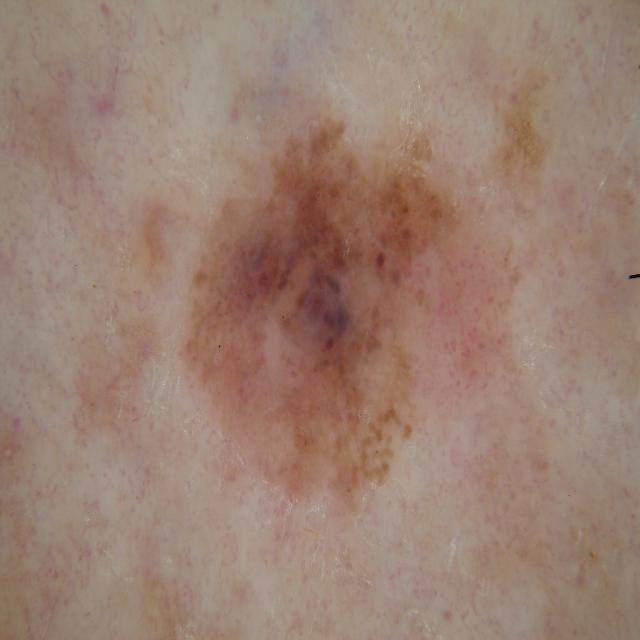Skin-Cancer Melanoma: (28, 42, 640, 602)
